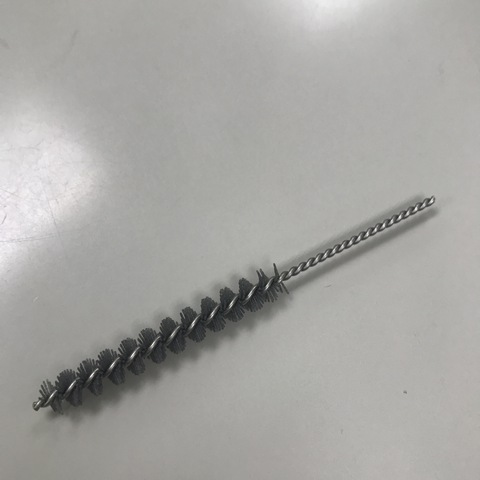Twist Brush-A: (32, 197, 430, 419)
